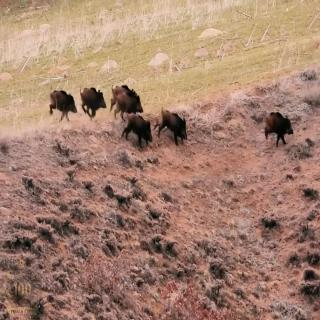Pig: (157, 98, 194, 158), (260, 105, 299, 157), (107, 68, 138, 120), (44, 81, 72, 128), (124, 111, 152, 156), (74, 76, 98, 118)
